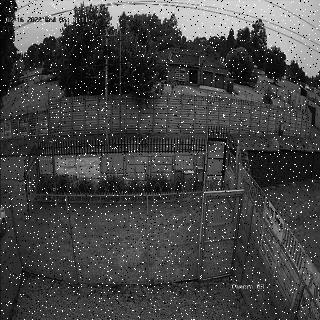car: (0, 202, 7, 238)
